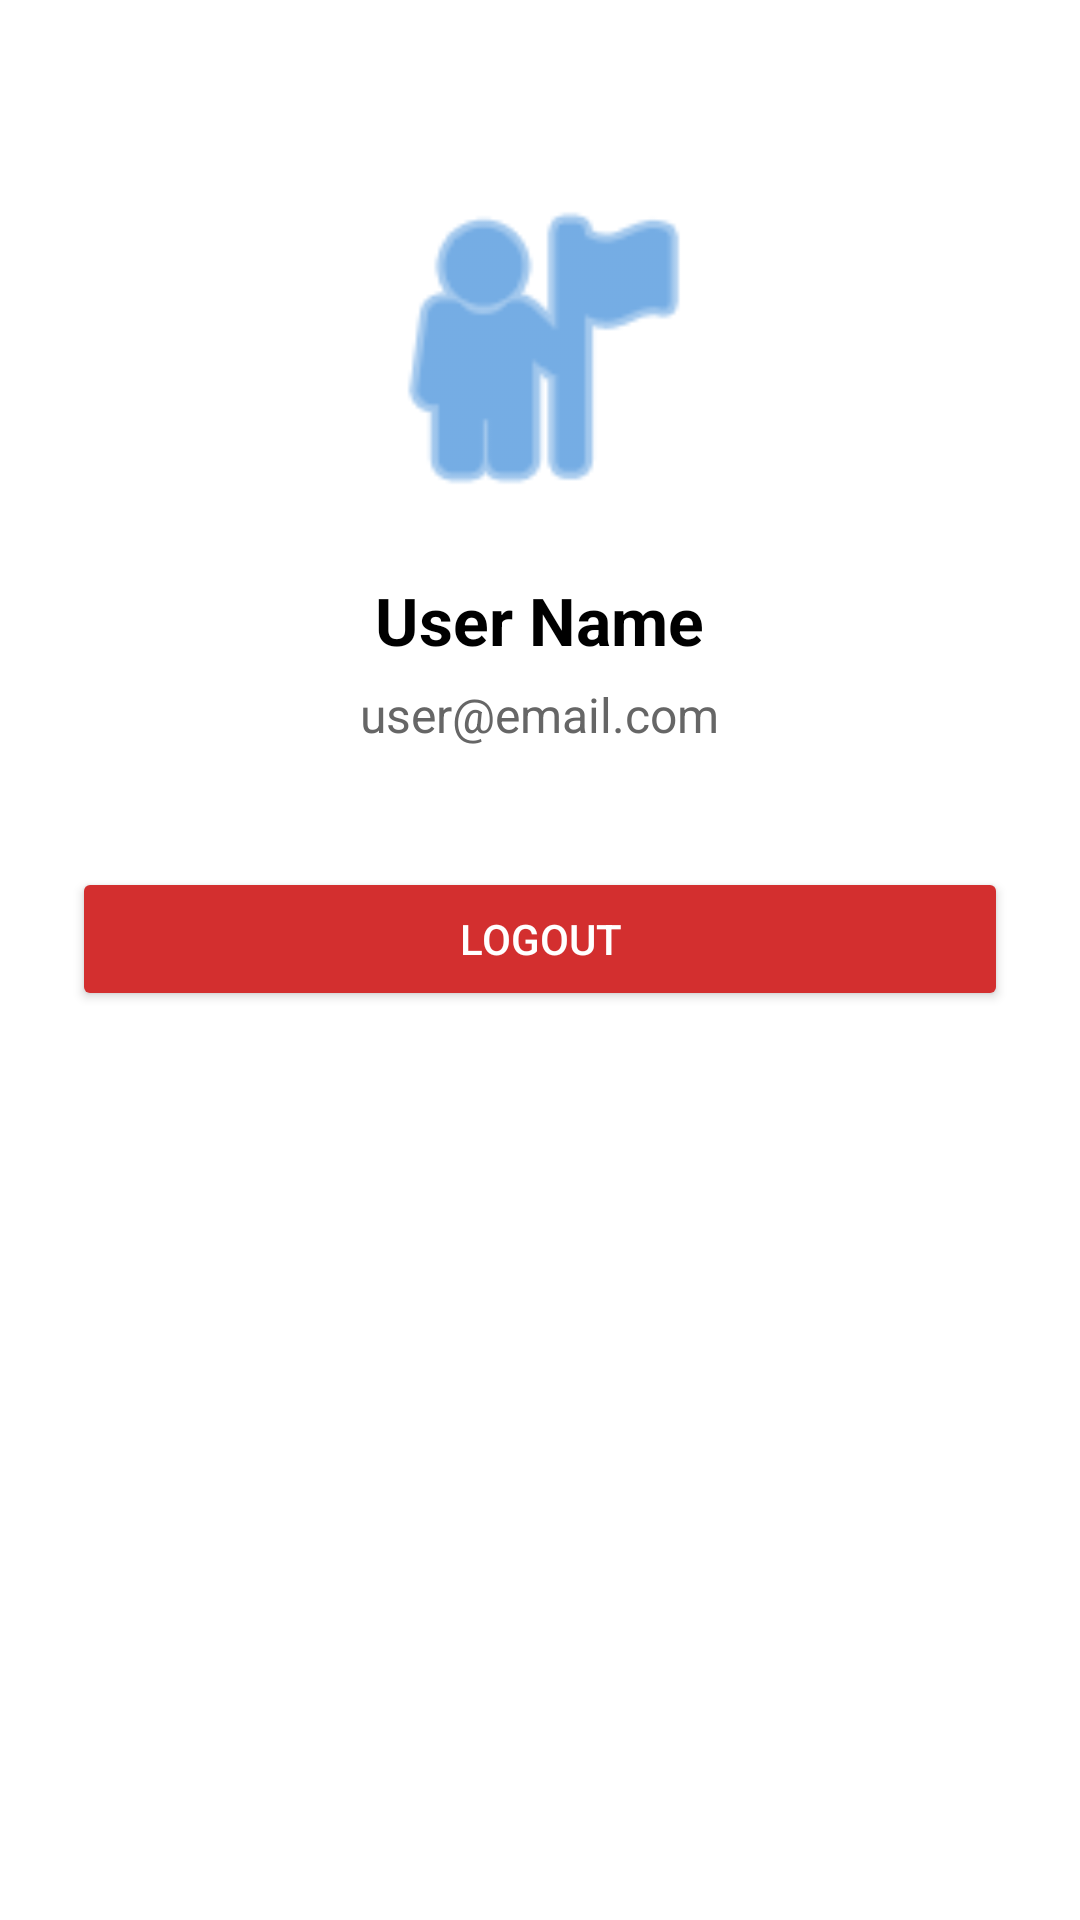

Named icons in this screenshot (1080*1920) and their centers, point (x, y):
myplaces: point (543, 348)
